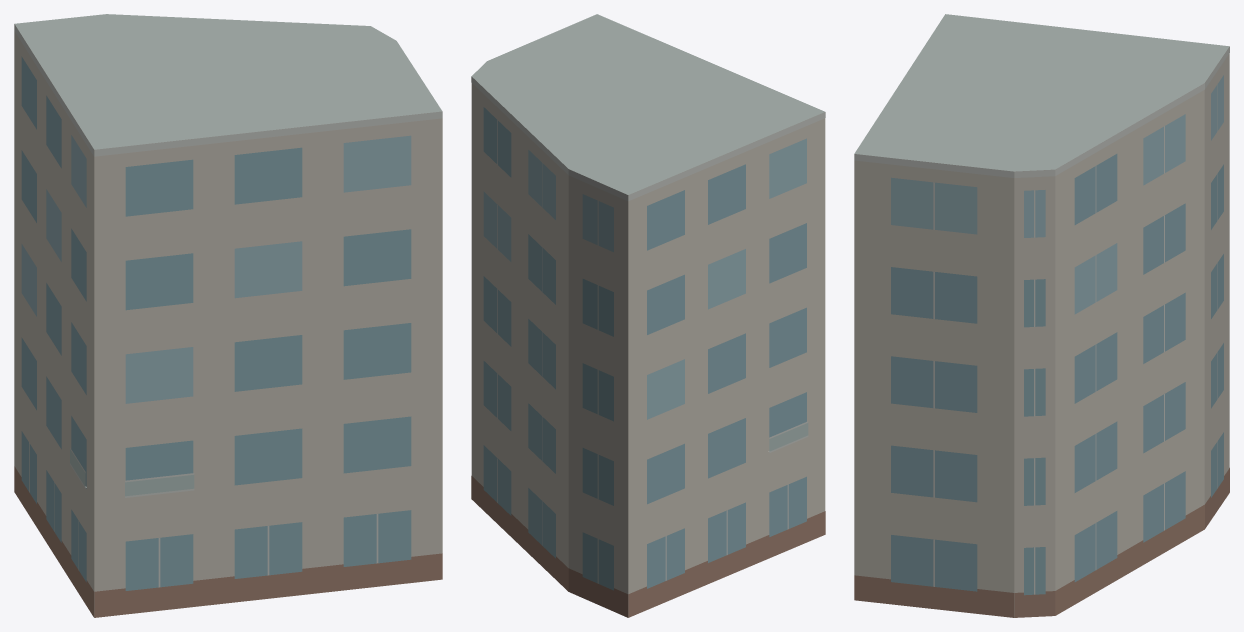
The model's file is survey-upis-33030354.glb.
The picture shows the model from 3 angles, left to right: view 1: azimuth 30°, elevation 25°; view 2: azimuth 150°, elevation 25°; view 3: azimuth 270°, elevation 25°; orthographic projection. The views are drawn at different scales.
Parts seen in each view (by area): view 1: survey-upis-33030354.tmp; view 2: survey-upis-33030354.tmp; view 3: survey-upis-33030354.tmp.
Boxes of the visible parts, <box> form: survey-upis-33030354.tmp: <box>14,14,442,617</box>; survey-upis-33030354.tmp: <box>471,14,825,617</box>; survey-upis-33030354.tmp: <box>854,14,1229,617</box>.
Bounding box in the file's own units: 12.5 × 16.5 × 12.59.
